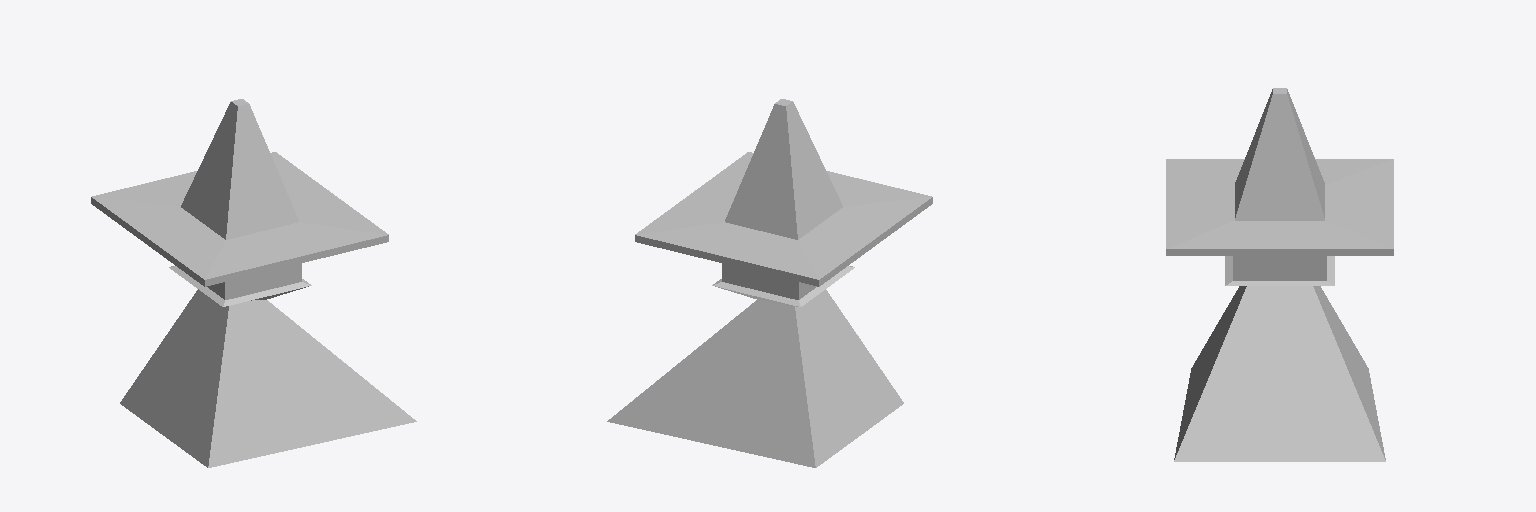
Rendered from ProfessorX.obj.
3 renders of one model, left to right at view 1: azimuth 30°, elevation 25°; view 2: azimuth 150°, elevation 25°; view 3: azimuth 270°, elevation 25°, orthographic.
Parts seen in each view (by area): view 1: pPlane1; view 2: pPlane1; view 3: pPlane1.
Part boxes in pixels (x1,y1,x2,y2): pPlane1: (91, 99, 416, 467); pPlane1: (607, 99, 932, 467); pPlane1: (1166, 88, 1393, 461).
Size of the model in its own units: 2.01 by 2.79 by 1.83.